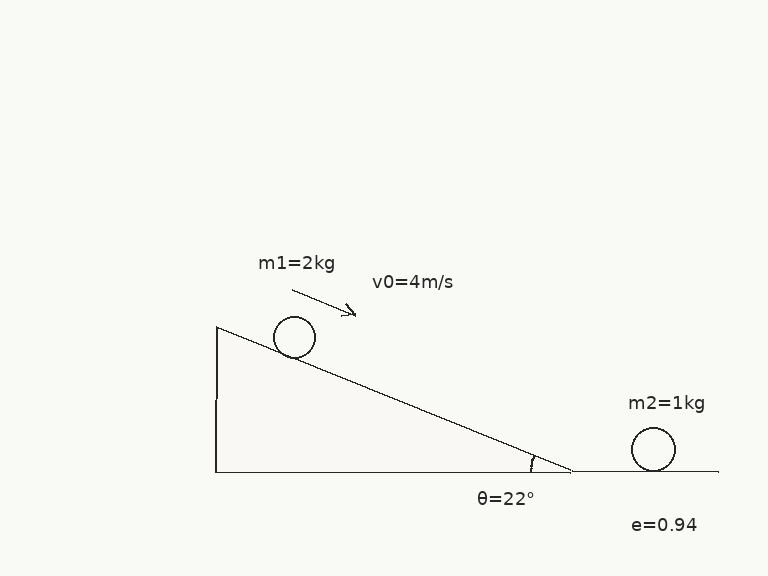ball: (629, 425, 677, 473), (271, 314, 317, 360)
ramp: (213, 325, 573, 473)
